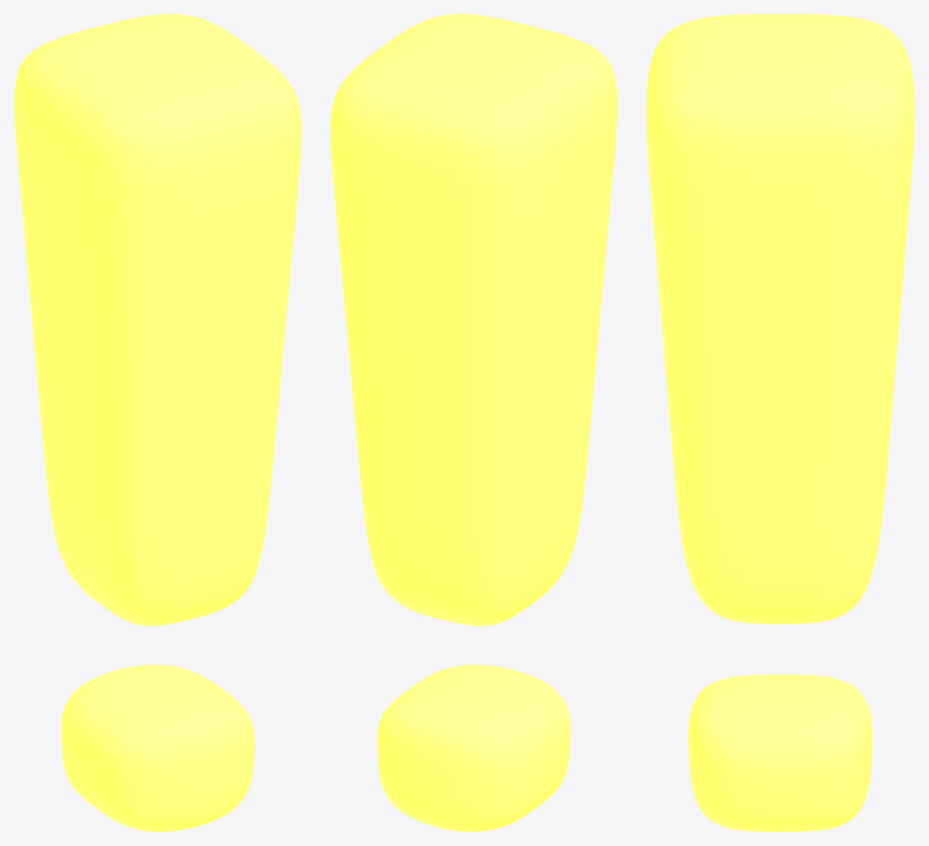
File: npc头顶感叹号.fbx
3 views of the same model, side by side, from view 1: azimuth 30°, elevation 25°; view 2: azimuth 150°, elevation 25°; view 3: azimuth 270°, elevation 25° (orthographic).
Parts seen in each view (by area): view 1: 立方体.006; view 2: 立方体.006; view 3: 立方体.006.
Part boxes in pixels (x1=…): 立方体.006: x1=14, y1=14, x2=301, y2=831; 立方体.006: x1=330, y1=14, x2=617, y2=831; 立方体.006: x1=646, y1=14, x2=914, y2=831.
Bounding box in the file's own units: 20.33 × 70.05 × 22.09.
